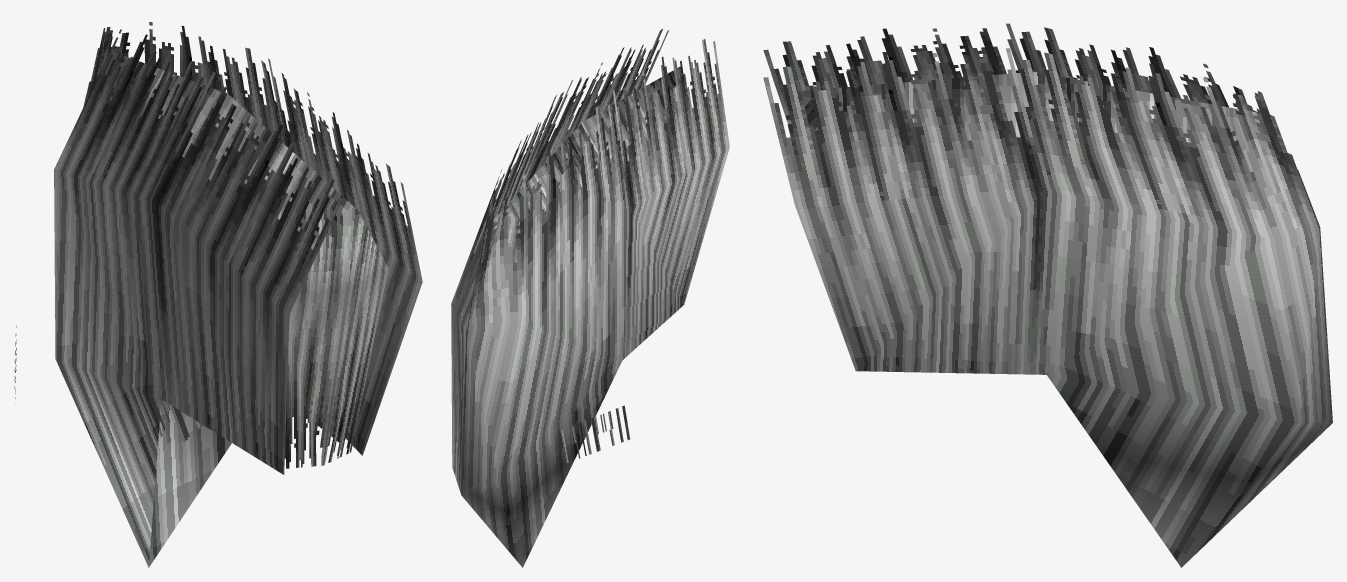
File: HUmar hair6.obj
3 renders of one model, left to right at view 1: azimuth 30°, elevation 25°; view 2: azimuth 150°, elevation 25°; view 3: azimuth 270°, elevation 25°, orthographic. The views are drawn at different scales.
Parts seen in each view (by area): view 1: objg_plAhai05_2, objg_plAhai05_1; view 2: objg_plAhai05_2, objg_plAhai05_1, objg_plAhai05_3; view 3: objg_plAhai05_2, objg_plAhai05_1.
Part boxes in pixels (left/top/right/bottom): objg_plAhai05_2: left=54, top=22, right=422, bottom=567; objg_plAhai05_1: left=104, top=51, right=388, bottom=468; objg_plAhai05_2: left=451, top=29, right=729, bottom=567; objg_plAhai05_1: left=493, top=66, right=680, bottom=262; objg_plAhai05_3: left=559, top=405, right=629, bottom=463; objg_plAhai05_2: left=763, top=23, right=1332, bottom=567; objg_plAhai05_1: left=796, top=71, right=1259, bottom=172.
Bounding box in the file's own units: 0.3888 × 1.03 × 0.9931.
Materials: 1 (1 with a texture image).
